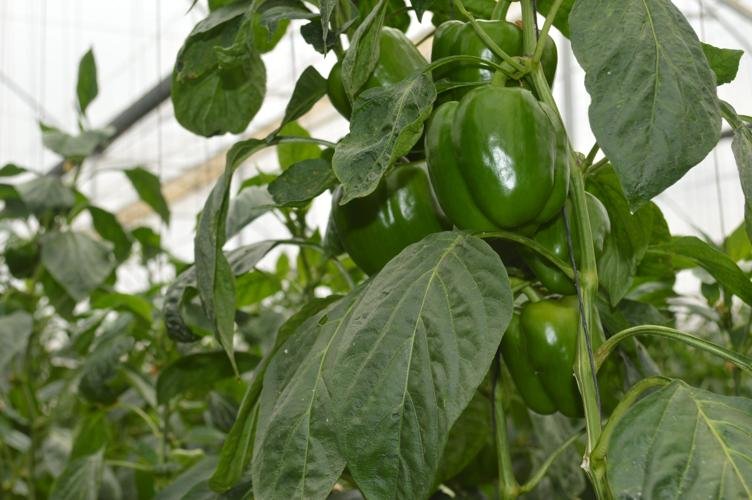BellPepper: (425, 85, 569, 236), (499, 291, 613, 422), (332, 163, 436, 269), (512, 191, 608, 291), (321, 27, 421, 118), (431, 19, 553, 91)
